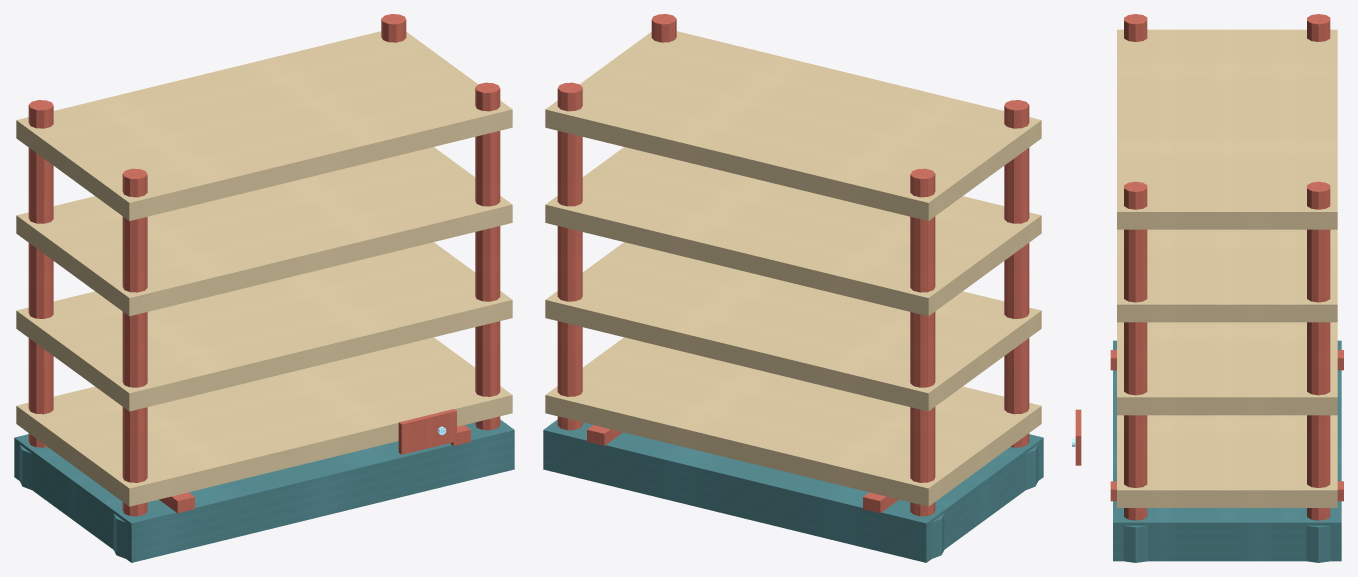
File: atlas100-s080-a06.lod1.glb
3 renders of one model, left to right at view 1: azimuth 30°, elevation 25°; view 2: azimuth 150°, elevation 25°; view 3: azimuth 270°, elevation 25°, orthographic. The views are drawn at different scales.
Parts seen in each view (by area): view 1: atlas100-s080-a06:part-014, atlas100-s080-a06:part-012, atlas100-s080-a06:part-013, atlas100-s080-a06:part-011, atlas100-s080-a06:part-000, atlas100-s080-a06:part-005, atlas100-s080-a06:part-009, atlas100-s080-a06:part-003, atlas100-s080-a06:part-015, atlas100-s080-a06:part-007; view 2: atlas100-s080-a06:part-014, atlas100-s080-a06:part-012, atlas100-s080-a06:part-011, atlas100-s080-a06:part-013, atlas100-s080-a06:part-000, atlas100-s080-a06:part-003, atlas100-s080-a06:part-007, atlas100-s080-a06:part-005, atlas100-s080-a06:part-009; view 3: atlas100-s080-a06:part-014, atlas100-s080-a06:part-012, atlas100-s080-a06:part-013, atlas100-s080-a06:part-011, atlas100-s080-a06:part-000, atlas100-s080-a06:part-007, atlas100-s080-a06:part-009, atlas100-s080-a06:part-008, atlas100-s080-a06:part-010, atlas100-s080-a06:part-003, atlas100-s080-a06:part-005, atlas100-s080-a06:part-015.
Boxes of the visible parts, <box> form: atlas100-s080-a06:part-014: <box>16,31,512,220</box>; atlas100-s080-a06:part-012: <box>16,242,512,411</box>; atlas100-s080-a06:part-013: <box>16,147,512,316</box>; atlas100-s080-a06:part-011: <box>16,337,512,506</box>; atlas100-s080-a06:part-000: <box>14,419,514,562</box>; atlas100-s080-a06:part-005: <box>122,168,147,516</box>; atlas100-s080-a06:part-009: <box>475,82,500,430</box>; atlas100-s080-a06:part-003: <box>28,100,53,447</box>; atlas100-s080-a06:part-015: <box>398,409,456,454</box>; atlas100-s080-a06:part-007: <box>381,14,406,42</box>; atlas100-s080-a06:part-014: <box>545,31,1041,220</box>; atlas100-s080-a06:part-012: <box>545,242,1041,411</box>; atlas100-s080-a06:part-011: <box>545,337,1041,506</box>; atlas100-s080-a06:part-013: <box>545,147,1041,316</box>; atlas100-s080-a06:part-000: <box>543,419,1043,562</box>; atlas100-s080-a06:part-003: <box>910,168,935,516</box>; atlas100-s080-a06:part-007: <box>557,82,582,430</box>; atlas100-s080-a06:part-005: <box>1004,100,1029,447</box>; atlas100-s080-a06:part-009: <box>651,14,676,42</box>; atlas100-s080-a06:part-014: <box>1117,29,1337,229</box>; atlas100-s080-a06:part-012: <box>1117,322,1337,415</box>; atlas100-s080-a06:part-013: <box>1117,229,1337,322</box>; atlas100-s080-a06:part-011: <box>1117,415,1337,507</box>; atlas100-s080-a06:part-000: <box>1113,340,1341,561</box>; atlas100-s080-a06:part-007: <box>1307,181,1330,520</box>; atlas100-s080-a06:part-009: <box>1124,181,1147,520</box>; atlas100-s080-a06:part-008: <box>1306,525,1330,562</box>; atlas100-s080-a06:part-010: <box>1123,525,1147,562</box>; atlas100-s080-a06:part-003: <box>1307,14,1330,41</box>; atlas100-s080-a06:part-005: <box>1124,14,1147,41</box>; atlas100-s080-a06:part-015: <box>1075,409,1081,465</box>.
Bounding box in the file's own units: 2.69 × 2.48 × 1.66.
Materials: 4 (4 with a texture image).
